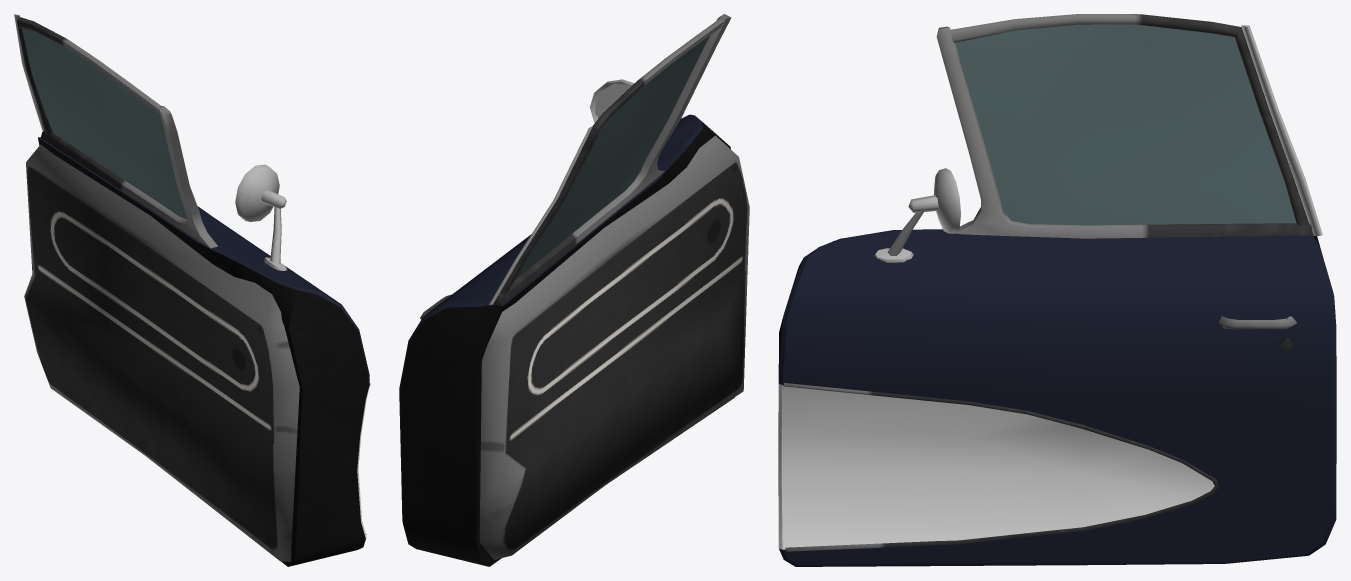
Rendered from DoorR.obj.
The picture shows the model from 3 angles, left to right: view 1: azimuth 30°, elevation 25°; view 2: azimuth 150°, elevation 25°; view 3: azimuth 270°, elevation 25°; orthographic projection. The views are drawn at different scales.
Parts seen in each view (by area): view 1: Door_R; view 2: Door_R; view 3: Door_R.
Part boxes in pixels (x1,y1,x2,y2): Door_R: (14, 14, 370, 566); Door_R: (399, 14, 749, 566); Door_R: (778, 14, 1336, 566).
Size of the model in its own units: 7.99 by 21.99 by 23.21.
4 materials, 4 textured.
